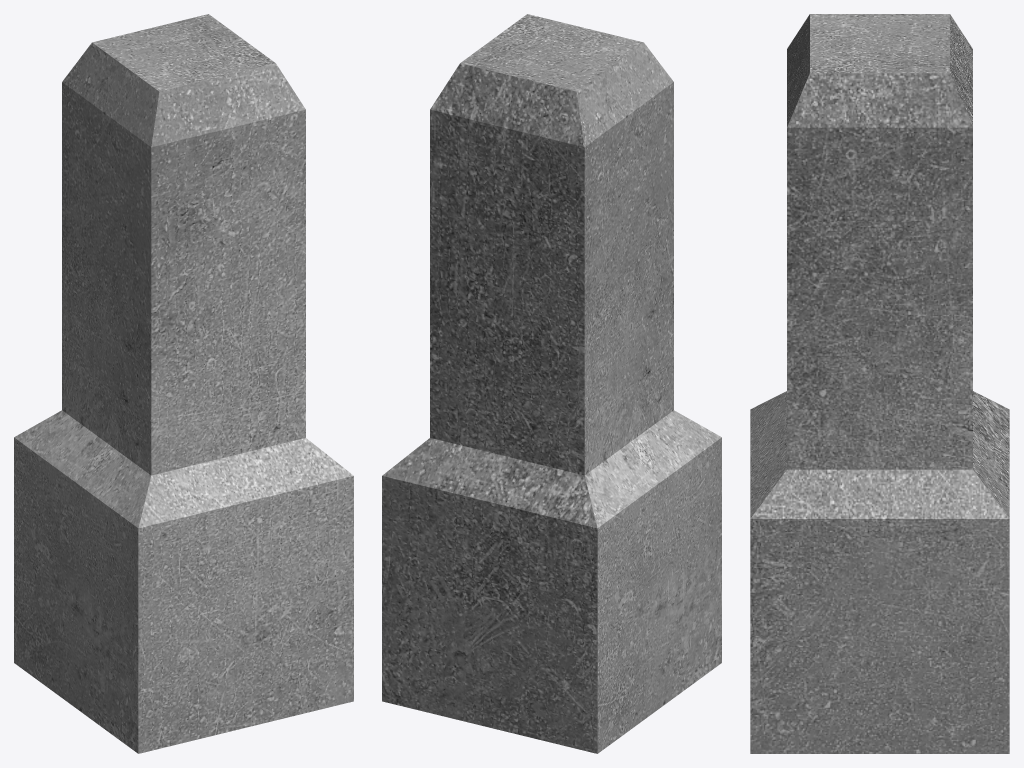
Rendered from stone.fbx.
3 views of the same model, side by side, from view 1: azimuth 30°, elevation 25°; view 2: azimuth 150°, elevation 25°; view 3: azimuth 270°, elevation 25° (orthographic). The views are drawn at different scales.
Visible parts, largest first — view 1: Cube, Cube_cell.002, Cube_cell.006, Cube_cell.003, Cube_cell.001_cell.002, Cube_cell.009, Cube_cell.004, Cube_cell.001_cell.007, Cube_cell.005_cell.006, Cube_cell, Cube_cell.001_cell.003, Cube_cell.001_cell.004 (+7 smaller); view 2: Cube, Cube_cell.009, Cube_cell.006, Cube_cell.002, Cube_cell.001_cell.007, Cube_cell, Cube_cell.004, Cube_cell.001_cell.004, Cube_cell.001_cell.001; view 3: Cube, Cube_cell.003, Cube_cell.008, Cube_cell.001_cell.004, Cube_cell.002, Cube_cell.001_cell.005, Cube_cell.001_cell.002, Cube_cell.001_cell.007, Cube_cell.001_cell, Cube_cell.006, Cube_cell.004, Cube_cell.005_cell.001_cell.004 (+3 smaller).
Boxes of the visible parts, x1,y1,x2,y2 form: Cube: (14,29,353,753); Cube_cell.002: (62,119,305,311); Cube_cell.006: (70,259,245,564); Cube_cell.003: (228,234,329,563); Cube_cell.001_cell.002: (195,63,305,153); Cube_cell.009: (14,554,124,726); Cube_cell.004: (15,410,94,594); Cube_cell.001_cell.007: (64,28,183,100); Cube_cell.005_cell.006: (262,465,330,556); Cube_cell: (76,504,245,639); Cube_cell.001_cell.003: (85,83,210,130); Cube_cell.001_cell.004: (150,14,241,52); Cube: (382,14,721,753); Cube_cell.009: (493,596,721,753); Cube_cell.006: (602,246,697,544); Cube_cell.002: (584,77,673,297); Cube_cell.001_cell.007: (518,52,607,142); Cube_cell: (674,495,721,662); Cube_cell.004: (547,300,653,516); Cube_cell.001_cell.004: (460,38,551,77); Cube_cell.001_cell.001: (584,137,610,190); Cube: (750,14,1009,753); Cube_cell.003: (750,257,942,495); Cube_cell.008: (880,246,1009,674); Cube_cell.001_cell.004: (880,43,960,133); Cube_cell.002: (787,32,953,256); Cube_cell.001_cell.005: (813,146,960,238); Cube_cell.001_cell.002: (787,32,879,183); Cube_cell.001_cell.007: (873,14,949,43); Cube_cell.001_cell: (877,100,972,185); Cube_cell.006: (750,391,786,463); Cube_cell.004: (973,391,1009,446); Cube_cell.005_cell.001_cell.004: (812,569,858,617).
Size of the model in its own units: 200 by 558 by 200.
Materials: 1 (1 with a texture image).
